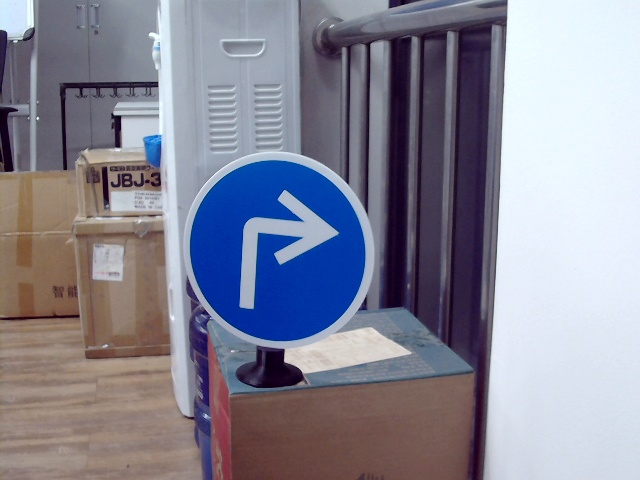turn_right: (228, 184, 334, 311)
